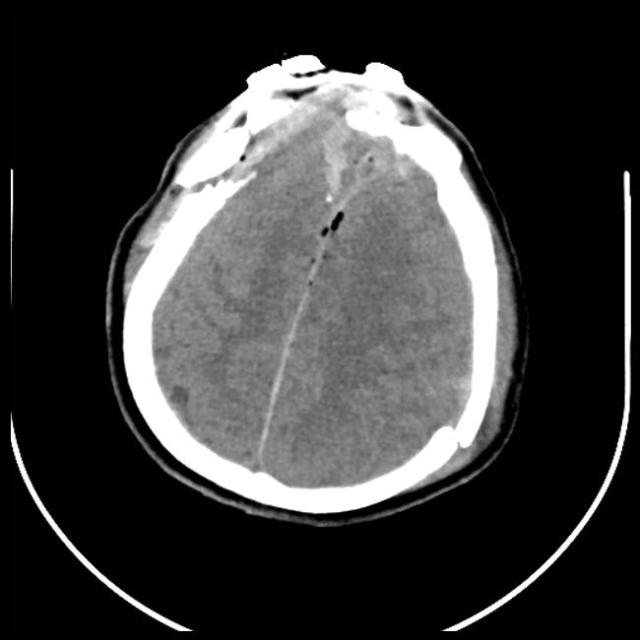lesion: (101, 51, 531, 524)
